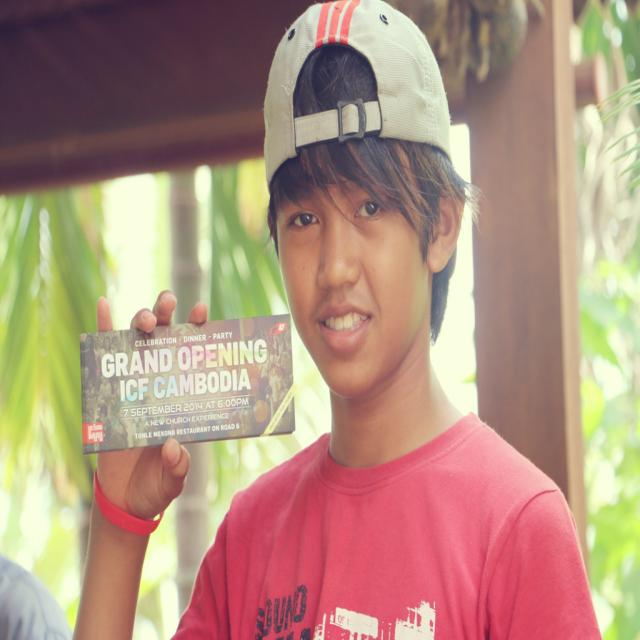Hat: (260, 0, 452, 188)
